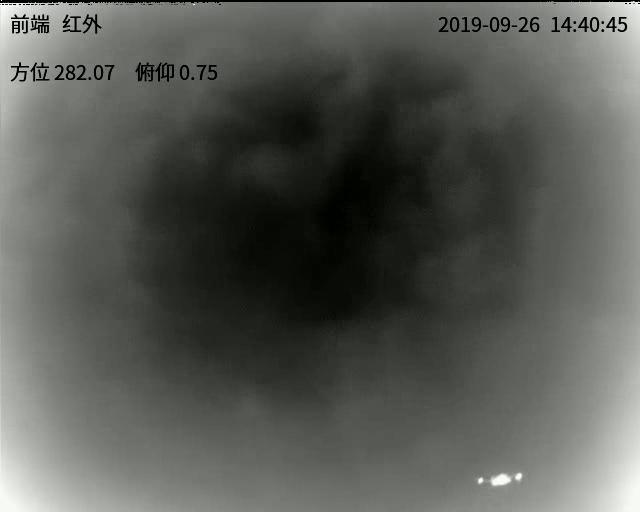DRONE: (476, 471, 522, 487)
